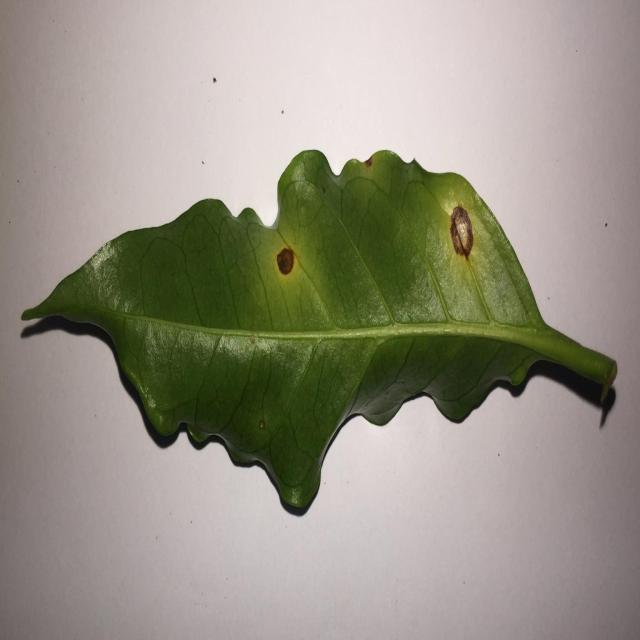Enfermedad-Mancha-de-hierro: (22, 149, 619, 519)
